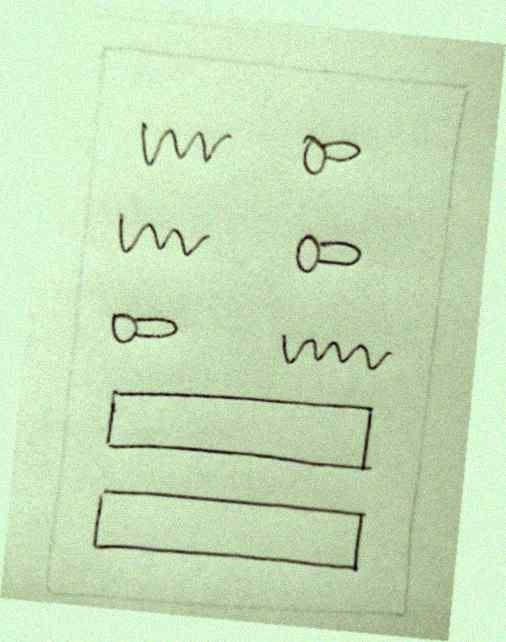switch: (102, 298, 188, 363), (292, 123, 368, 189), (286, 227, 370, 284)
text: (270, 321, 399, 383), (110, 206, 219, 266), (129, 119, 233, 173)
text_input: (93, 377, 391, 486), (83, 478, 374, 588)
